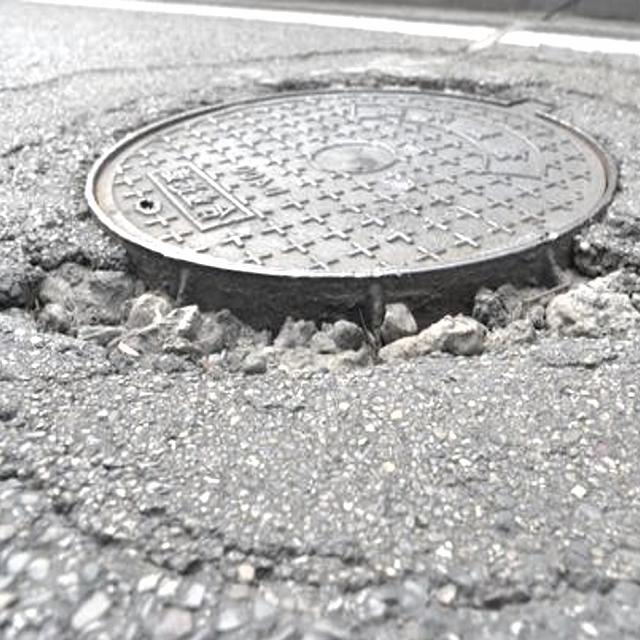circle: (0, 59, 640, 396)
